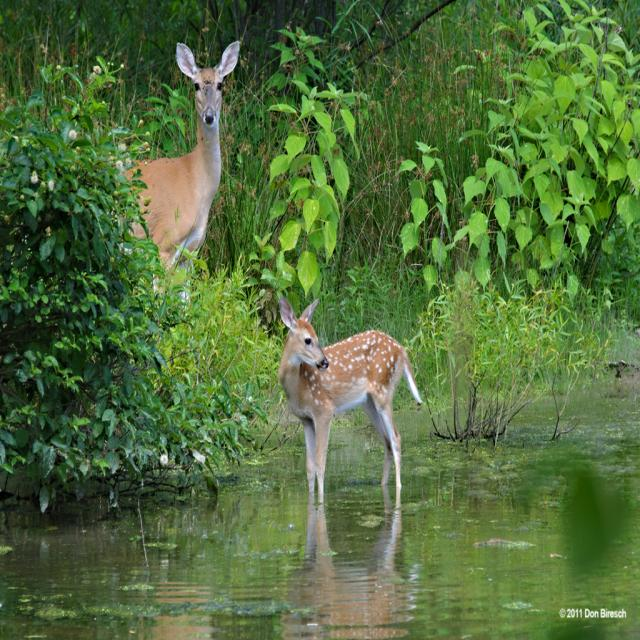Deer: (277, 298, 424, 505), (123, 44, 237, 304)
